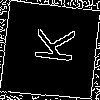K: (25, 25, 75, 65)
